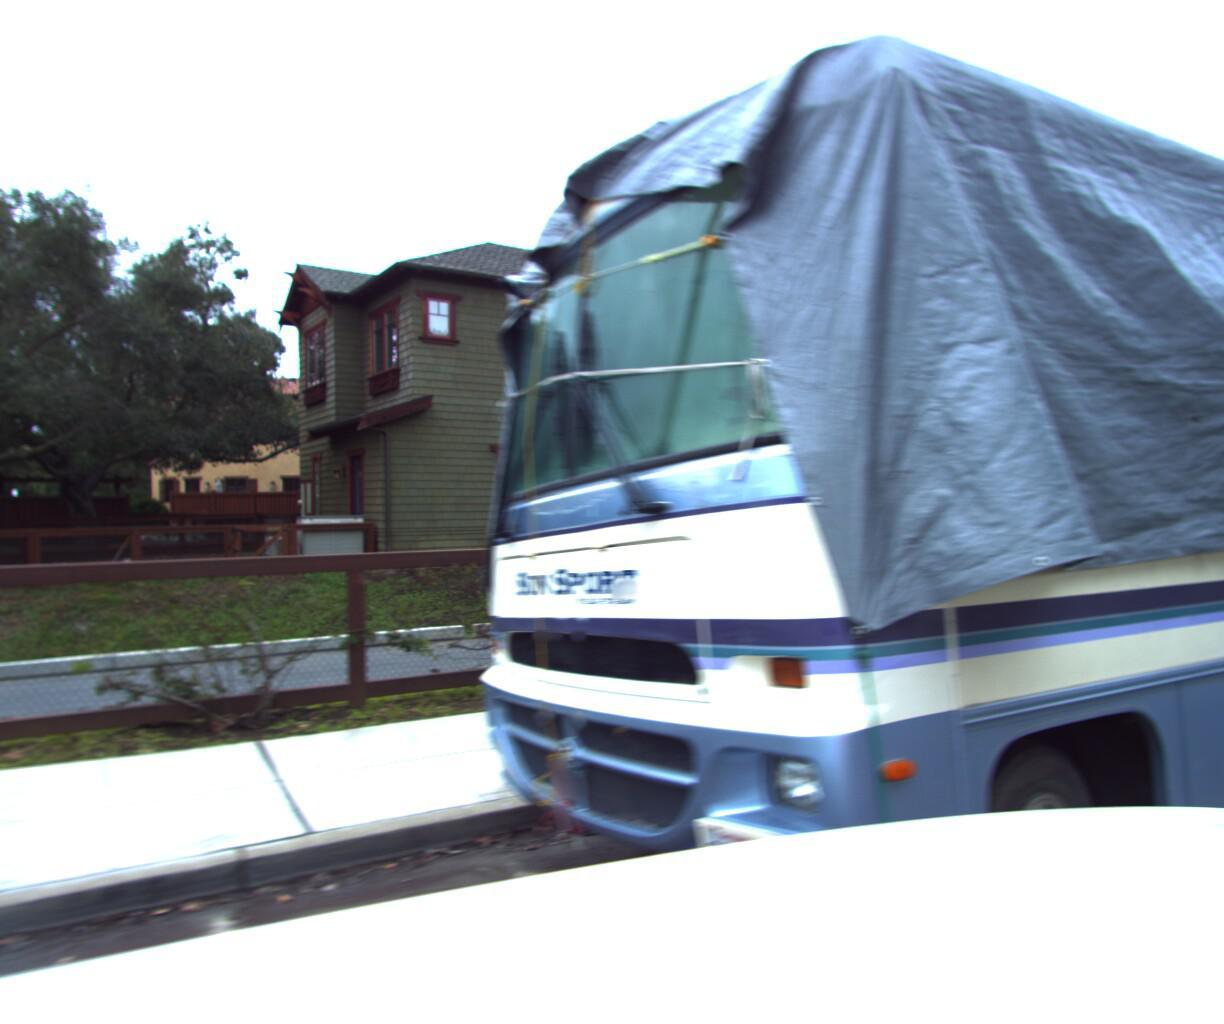other_vehicle: (426, 0, 1224, 1024)
